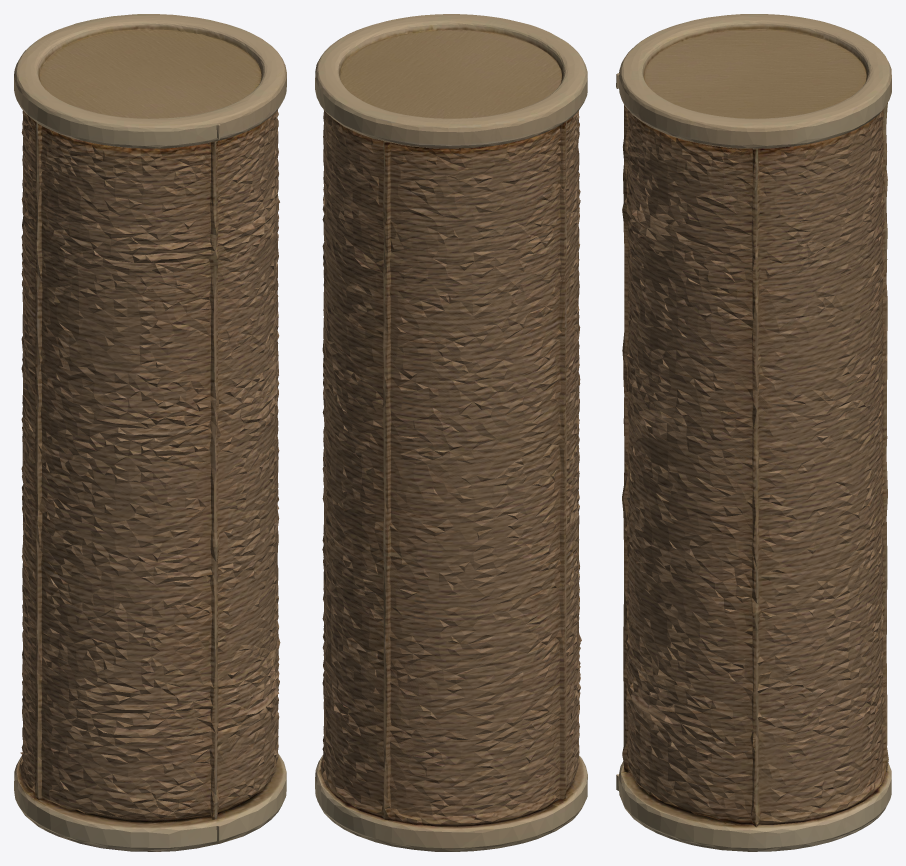
Rendered from ktochka_6.glb.
3 renders of one model, left to right at view 1: azimuth 30°, elevation 25°; view 2: azimuth 150°, elevation 25°; view 3: azimuth 270°, elevation 25°, orthographic.
Visible parts, largest first — view 1: tripo_node_e01134af-e156-412f-9a72-ca351c217343; view 2: tripo_node_e01134af-e156-412f-9a72-ca351c217343; view 3: tripo_node_e01134af-e156-412f-9a72-ca351c217343.
Boxes of the visible parts, x1,y1,x2,y2 form: tripo_node_e01134af-e156-412f-9a72-ca351c217343: [14, 14, 286, 851]; tripo_node_e01134af-e156-412f-9a72-ca351c217343: [315, 14, 587, 851]; tripo_node_e01134af-e156-412f-9a72-ca351c217343: [616, 14, 891, 851].
Size of the model in its own units: 0.341 by 1 by 0.3441.
Materials: 1 (1 with a texture image).
